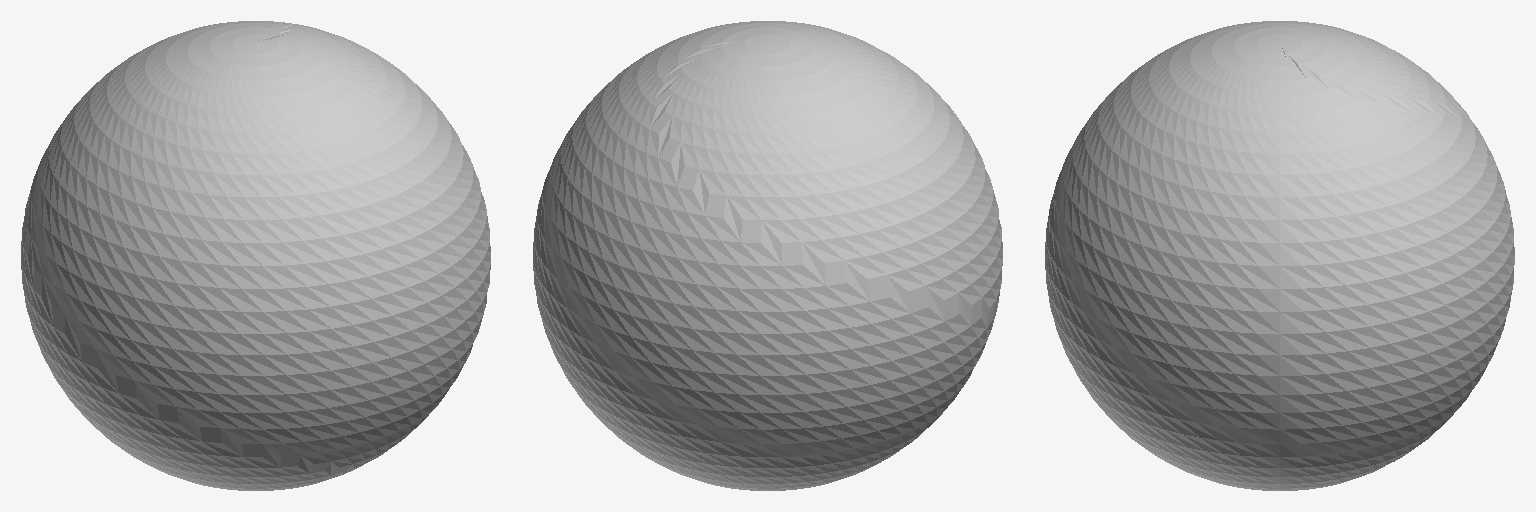
File: planet.obj
3 renders of one model, left to right at view 1: azimuth 30°, elevation 25°; view 2: azimuth 150°, elevation 25°; view 3: azimuth 270°, elevation 25°, orthographic.
Visible parts, largest first — view 1: Sphere; view 2: Sphere; view 3: Sphere.
Part boxes in pixels (x1,y1,x2,y2): Sphere: (21, 21, 490, 490); Sphere: (533, 21, 1002, 490); Sphere: (1045, 21, 1514, 490).
Bounding box in the file's own units: 2 × 2 × 2.